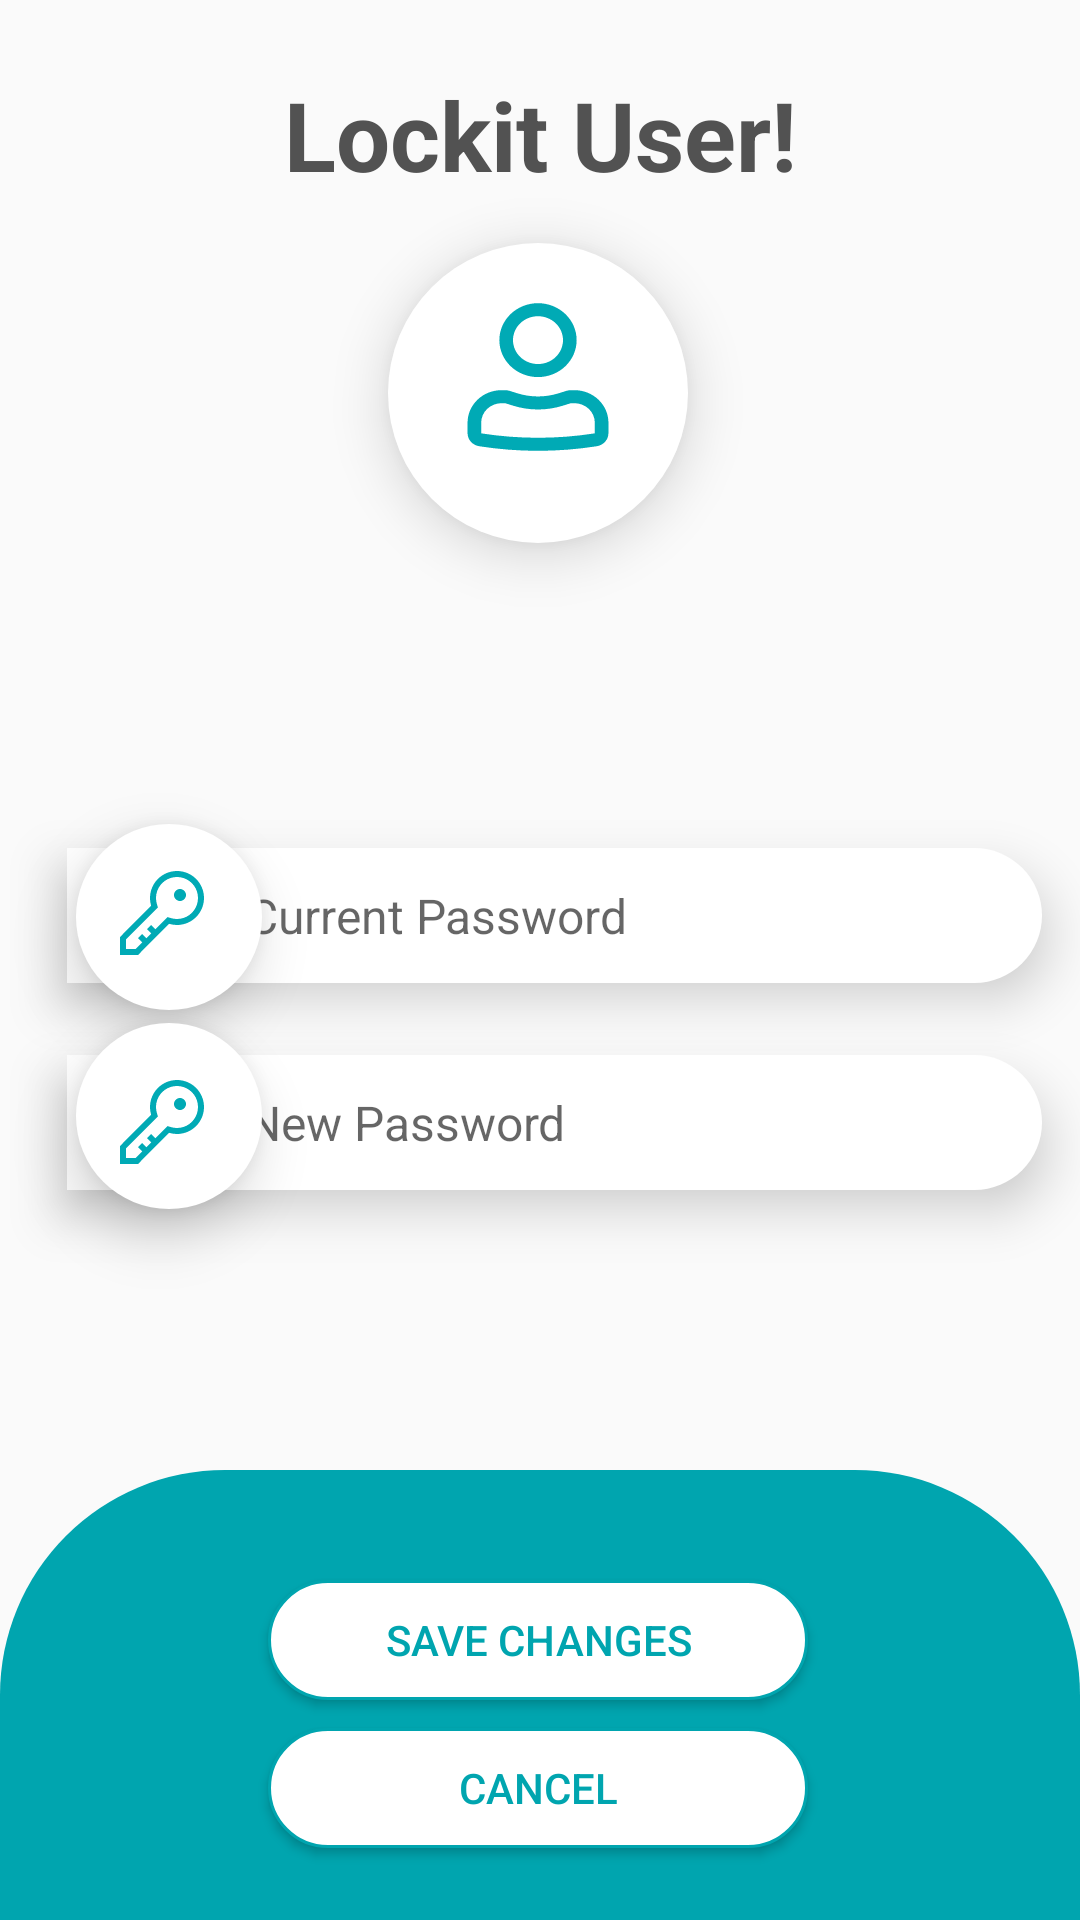

Screen size 1080w x 1920h. Icon name, then its center in pixels as point (x, y):
carbon password: point (162, 913), point (162, 1122)
